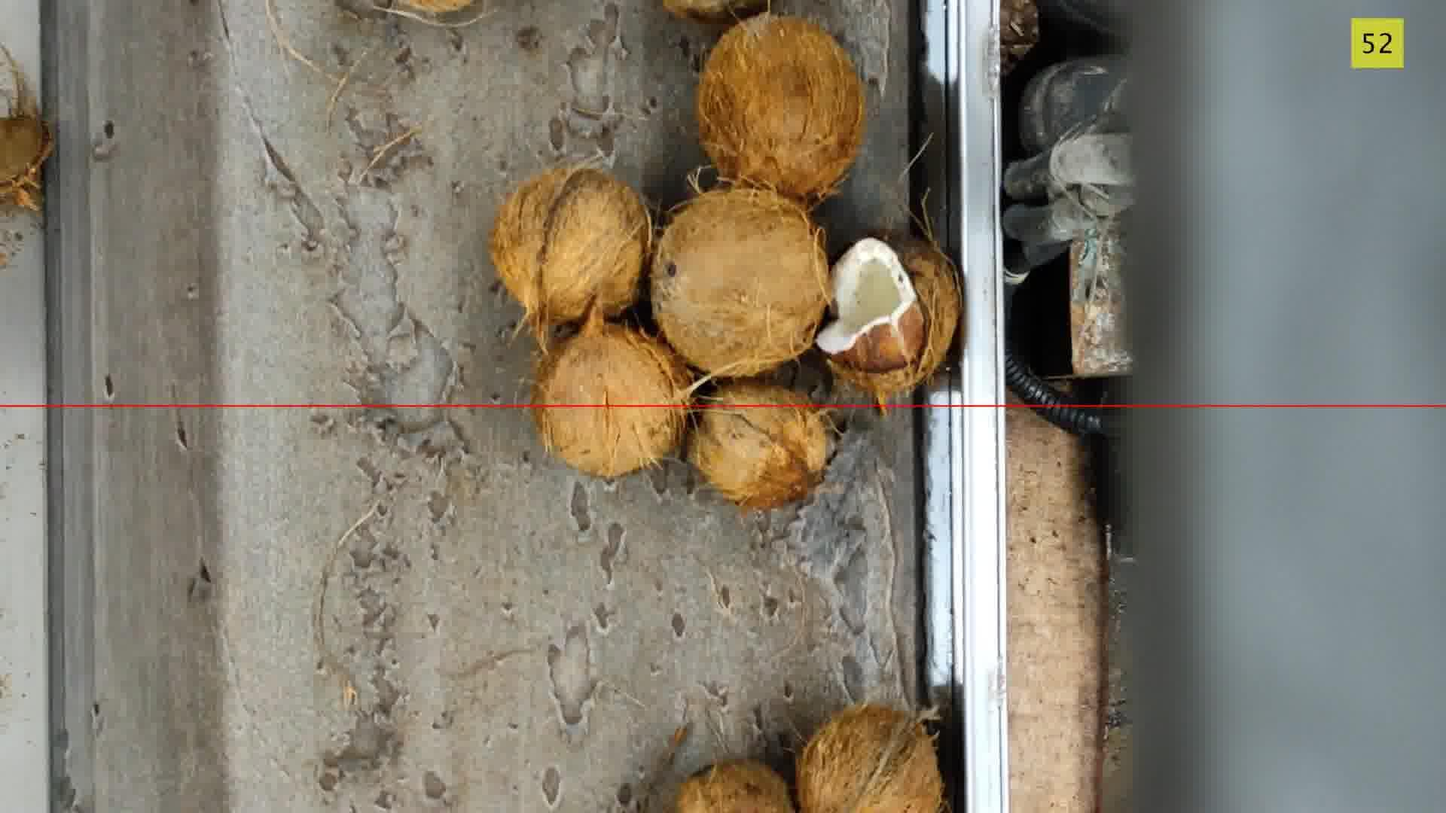Coconut: (650, 187, 828, 376), (697, 14, 865, 201), (532, 312, 688, 477), (490, 169, 651, 327), (819, 236, 962, 404), (688, 381, 828, 509), (796, 704, 943, 812), (816, 238, 925, 372), (0, 46, 53, 210), (676, 760, 793, 812), (663, 0, 767, 23), (400, 0, 474, 13)
